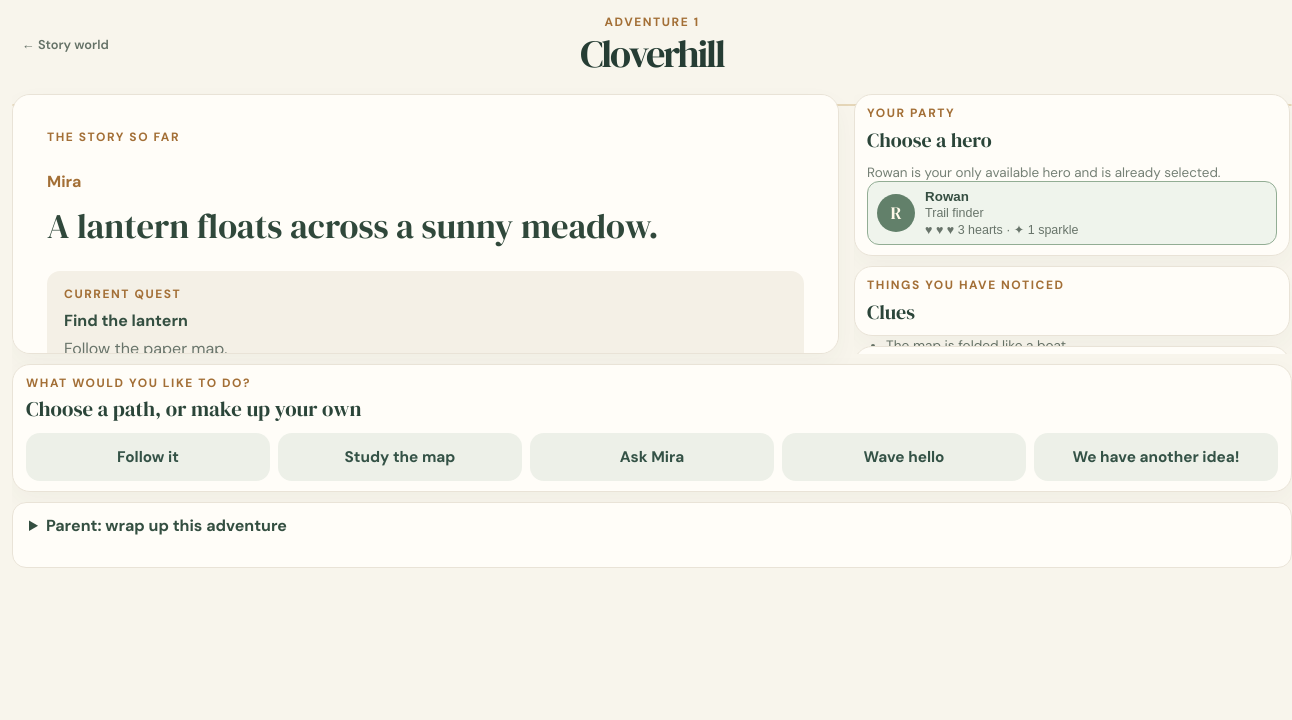
AdventurePlayScreen › collects a physical d20 result, resolves it, and displays the server result
This screenshot has width=1292, height=720.
Click the button "Follow it" at (148, 457), box [26,433,270,481]
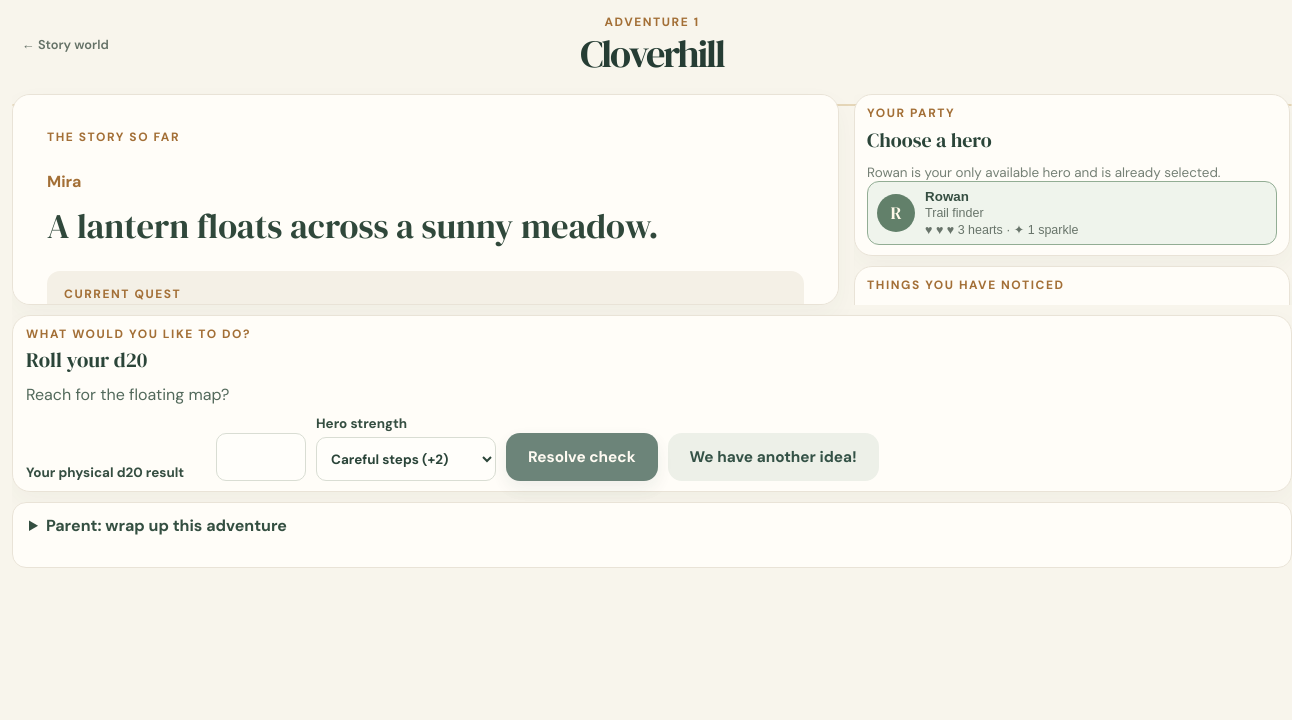
expect the number field labelled "Your physical d20 result" is shown: met
Type "9" into the number field labelled "Your physical d20 result" at (261, 457), box [216,433,306,481]
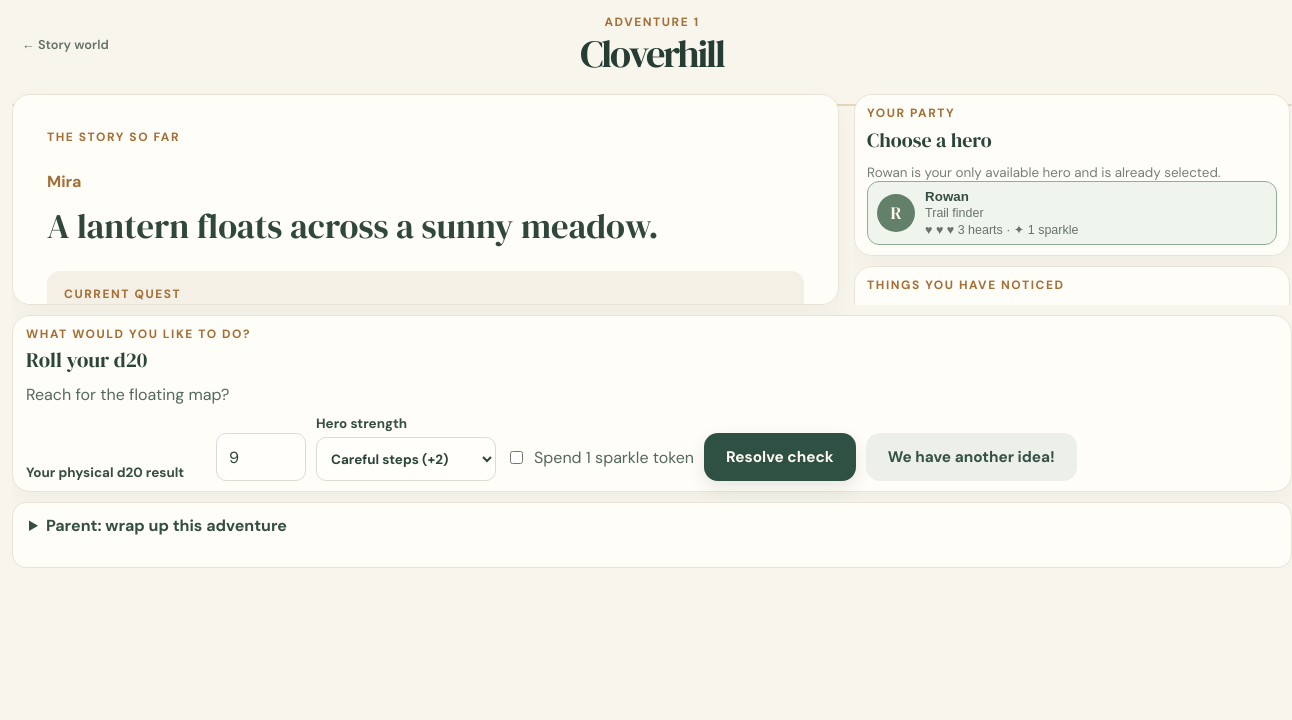
Select "Careful steps (+2)" in the dropdown labelled "Hero strength" at (406, 459), box [316,437,496,481]
Click the checkbox labelled "Spend 1 sparkle token" at (516, 457), box [510,450,523,464]
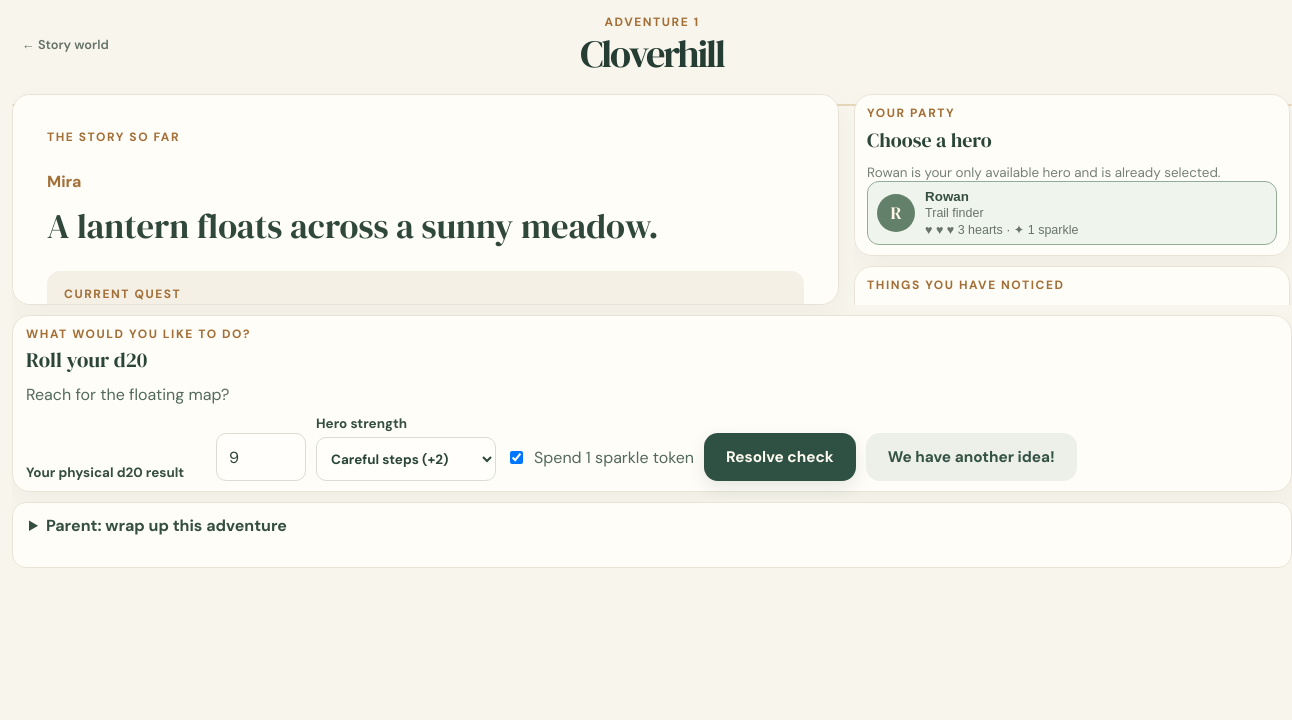
Click the button "Resolve check" at (780, 457), box [704,433,856,481]
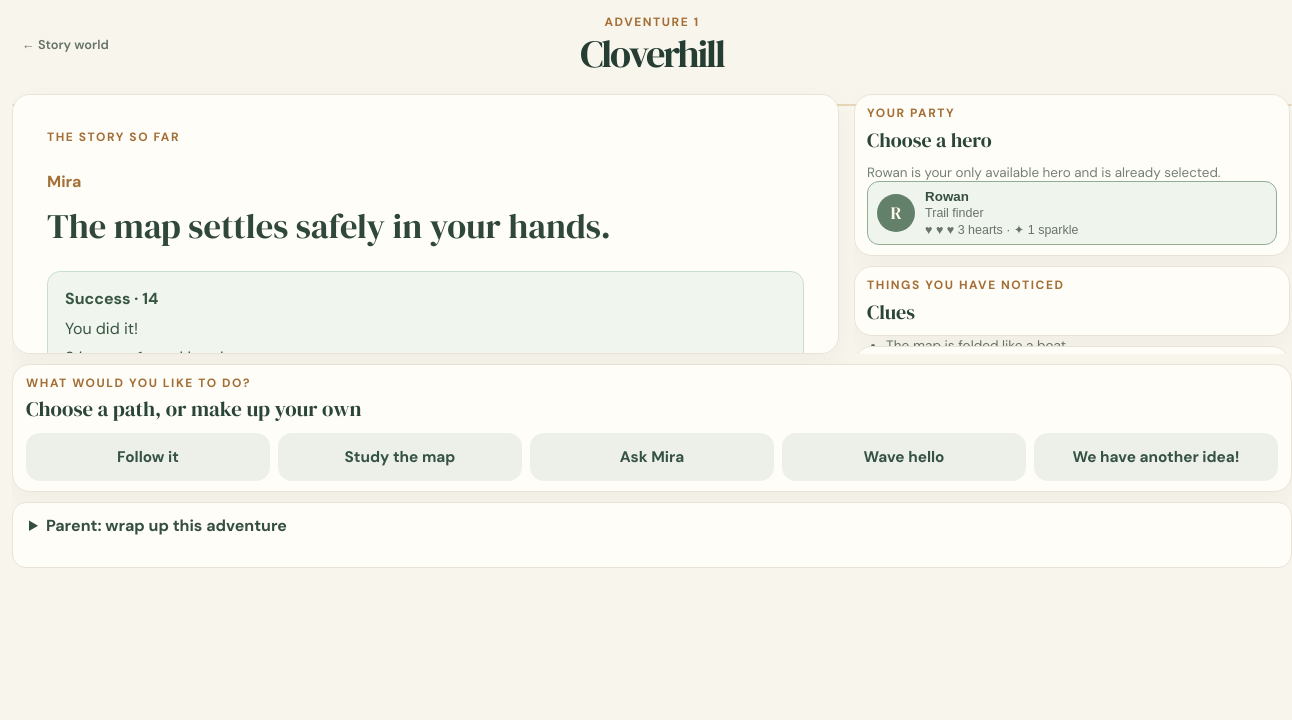
expect the text "Success · 14" is shown: met, box [65,288,158,309]
expect the text "The map settles safely in your hands." is shown: met, box [47,202,611,250]
